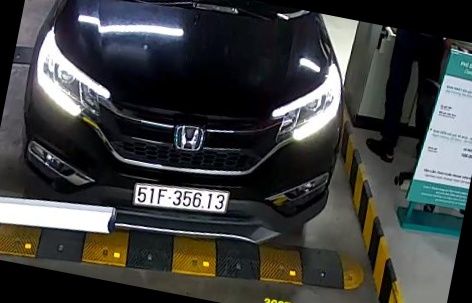plate: (129, 177, 233, 217)
